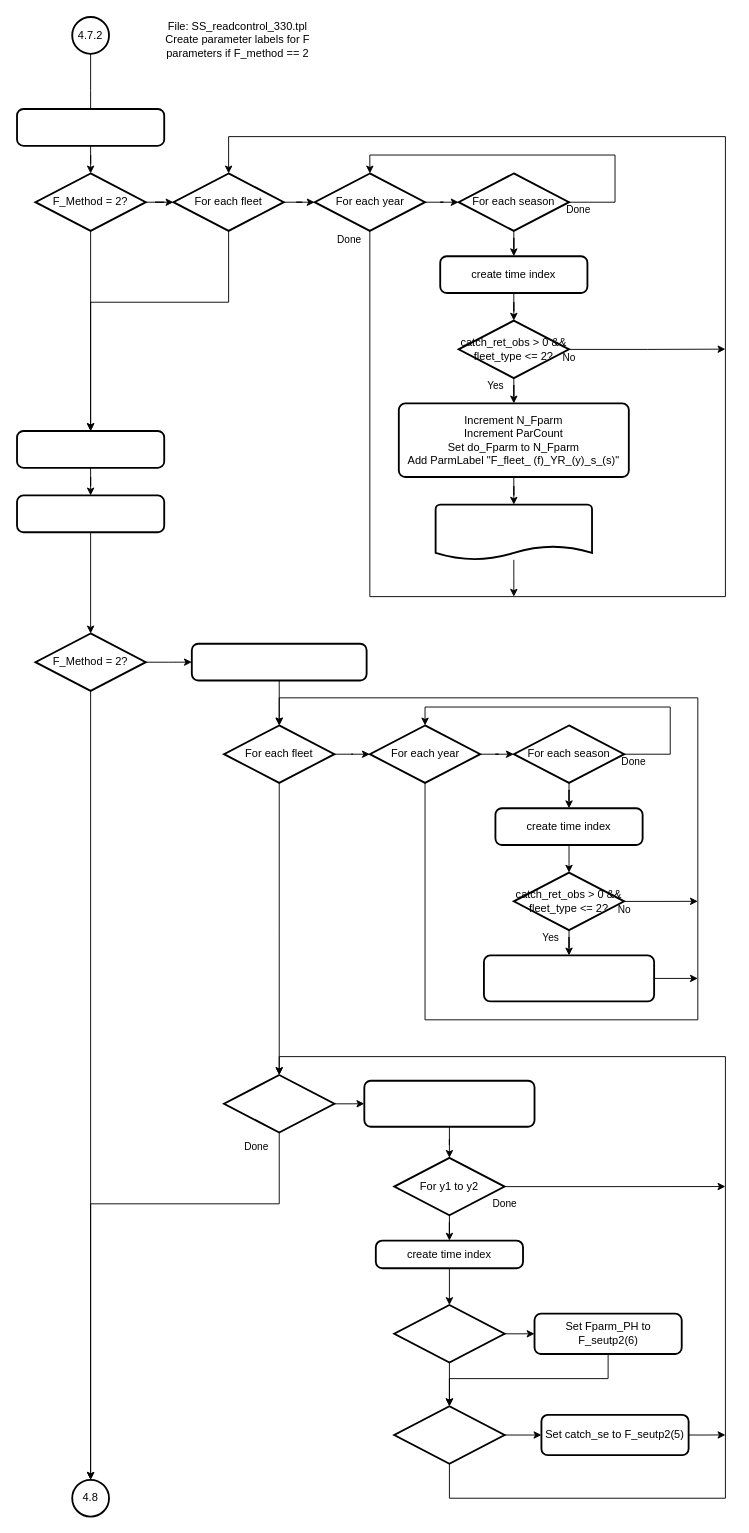
The diagram is 749 pixels wide and 1533 high, and some of its shapes have lost their labels. Here are the shapes that lost their labels. From the top down, the box of each, then its label:
(16, 108, 165, 146): Set Rparm_start to ParCount
(16, 430, 165, 468): create Fparm_PH Fparm_loc, Fparm_max
(16, 494, 165, 533): initilaize Fparm_max, Fparm_PH
(434, 503, 592, 560): Output N_Fparm to echoinput
(190, 642, 367, 681): Fparm_max = max_harvest_rate Fparm_PH = F_setup(2)
(483, 954, 655, 1002): Fparm_loc (1) = fleet Fparm_loc (2) = time
(223, 1074, 335, 1133): For 1 to F_detail
(363, 1079, 535, 1127): Get fleet, year, and season from F_setup2
(393, 1304, 505, 1363): do_Fparm > 0 && F_setup2(6) != -999?
(393, 1405, 505, 1464): do_Fparm > 0 && F_setup2(5) != -999?
